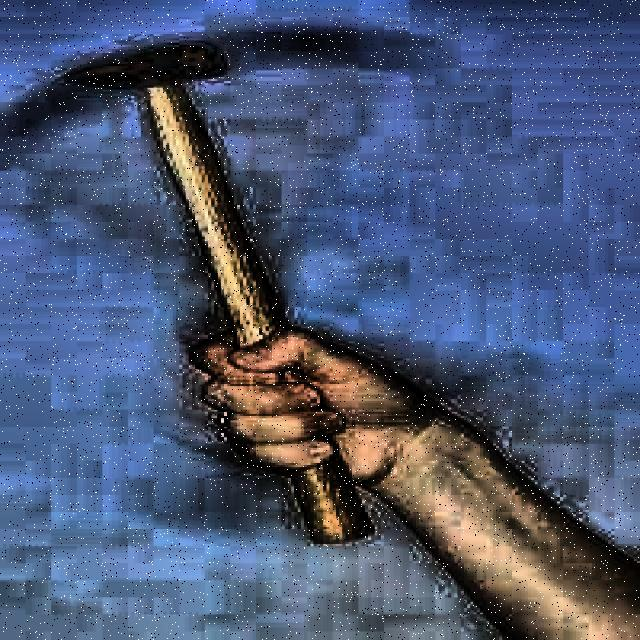hammer: (67, 38, 386, 540)
